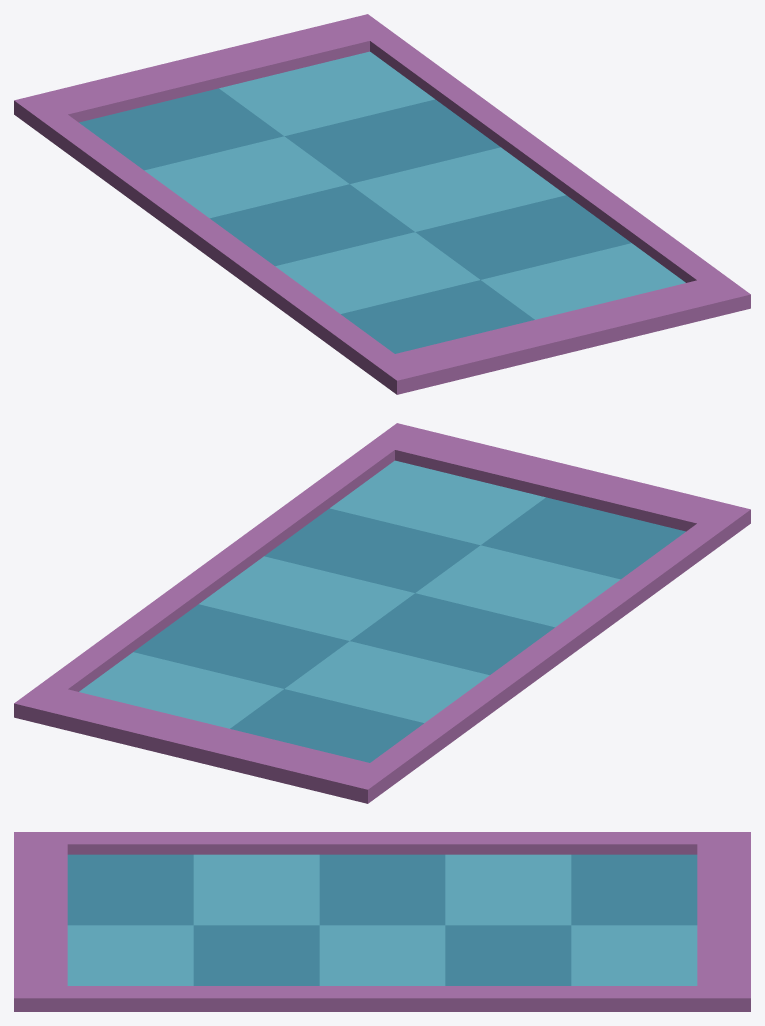
The model's file is docking cargo platform.fbx.
3 renders of one model, top to bottom at view 1: azimuth 30°, elevation 25°; view 2: azimuth 150°, elevation 25°; view 3: azimuth 270°, elevation 25°, orthographic. The views are drawn at different scales.
Visible parts, largest first — view 1: Cube.030; view 2: Cube.030; view 3: Cube.030.
Boxes of the visible parts, x1,y1,x2,y2 form: Cube.030: [14, 14, 750, 394]; Cube.030: [14, 423, 750, 803]; Cube.030: [14, 832, 750, 1011].
Size of the model in its own units: 1877 by 71.67 by 3519.
